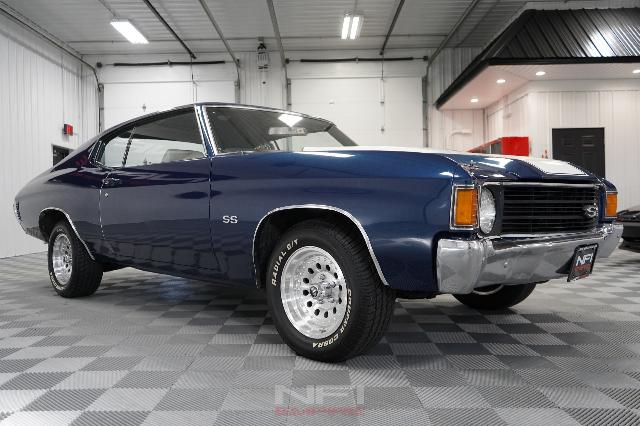chevelle-1972: (12, 103, 623, 363)
